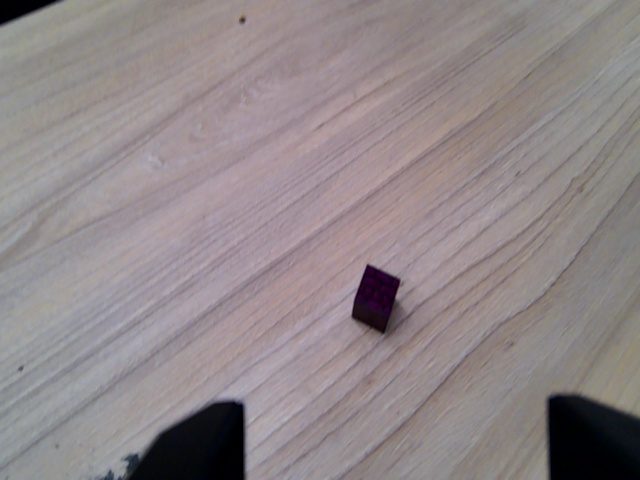brick: (348, 263, 403, 335)
